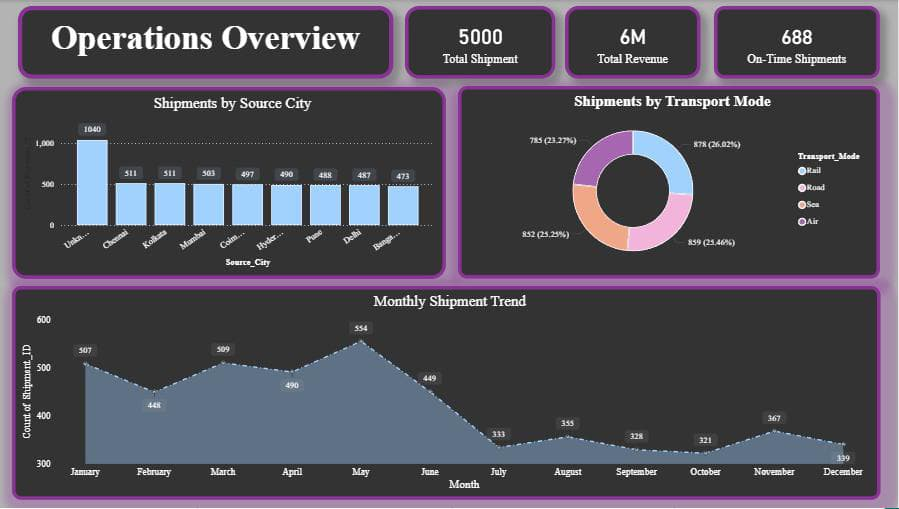

What the dashboard file says about the page in this screenshot:
{"tool":"powerbi","page":{"name":"Dashboard 1 – Operations Overview","canvas":[1280,720],"ordinal":0},"visuals":[{"type":"card","fields":{"Values":["CountNonNull(Logistics_Cleaned_Dataset.Shipment_ID)"]},"box":[582.1,8.6,213.1,103],"z":0},{"type":"card","fields":{"Values":["Sum(Logistics_Cleaned_Dataset.Selling_Price)"]},"box":[809.5,8.6,191.6,103],"z":1000},{"type":"card","fields":{"Values":["CountNonNull(Logistics_Cleaned_Dataset.Shipment_ID)"]},"box":[1021.1,8.6,234.5,103],"z":2000},{"type":"clusteredColumnChart","title":"Shipments by Source City","fields":{"Category":["Logistics_Cleaned_Dataset.Source_City"],"Y":["CountNonNull(Logistics_Cleaned_Dataset.Shipment_ID)"]},"box":[25.7,123,615,271.7],"z":3000},{"type":"donutChart","title":"\tShipments by Transport Mode","fields":{"Category":["Logistics_Cleaned_Dataset.Transport_Mode"],"Y":["CountNonNull(Logistics_Cleaned_Dataset.Shipment_ID)"]},"box":[657.9,121.6,597.8,273.2],"z":4000},{"type":"lineChart","title":"Monthly Shipment Trend","fields":{"Category":["Logistics_Cleaned_Dataset.Shipment_Date.Variation.Date Hierarchy.Month"],"Y":["CountNonNull(Logistics_Cleaned_Dataset.Shipment_ID)"]},"box":[25.7,404.7,1231.4,303.2],"z":5000},{"type":"textbox","box":[34.3,8.6,532,103],"z":6000}]}

Visuals, with their boxes in screenshot pixels (x1, y1, x2, y2), scaled from the page's 1280x720 canvas onto the 899x509 screenshot:
card - CountNonNull(Logistics_Cleaned_Dataset.Shipment_ID): 409/6/559/79
card - Sum(Logistics_Cleaned_Dataset.Selling_Price): 569/6/703/79
card - CountNonNull(Logistics_Cleaned_Dataset.Shipment_ID): 717/6/882/79
"Shipments by Source City" clusteredColumnChart: 18/87/450/279
"	Shipments by Transport Mode" donutChart: 462/86/882/279
"Monthly Shipment Trend" lineChart: 18/286/883/500
textbox: 24/6/398/79
